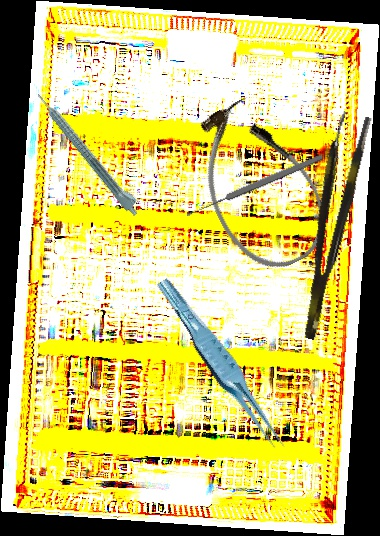Cannula: (176, 86, 342, 285)
Handpiece: (34, 86, 145, 219)
Surgical Spoon: (185, 152, 324, 219)
Tissue Forceps: (155, 269, 288, 463), (283, 110, 374, 341)
